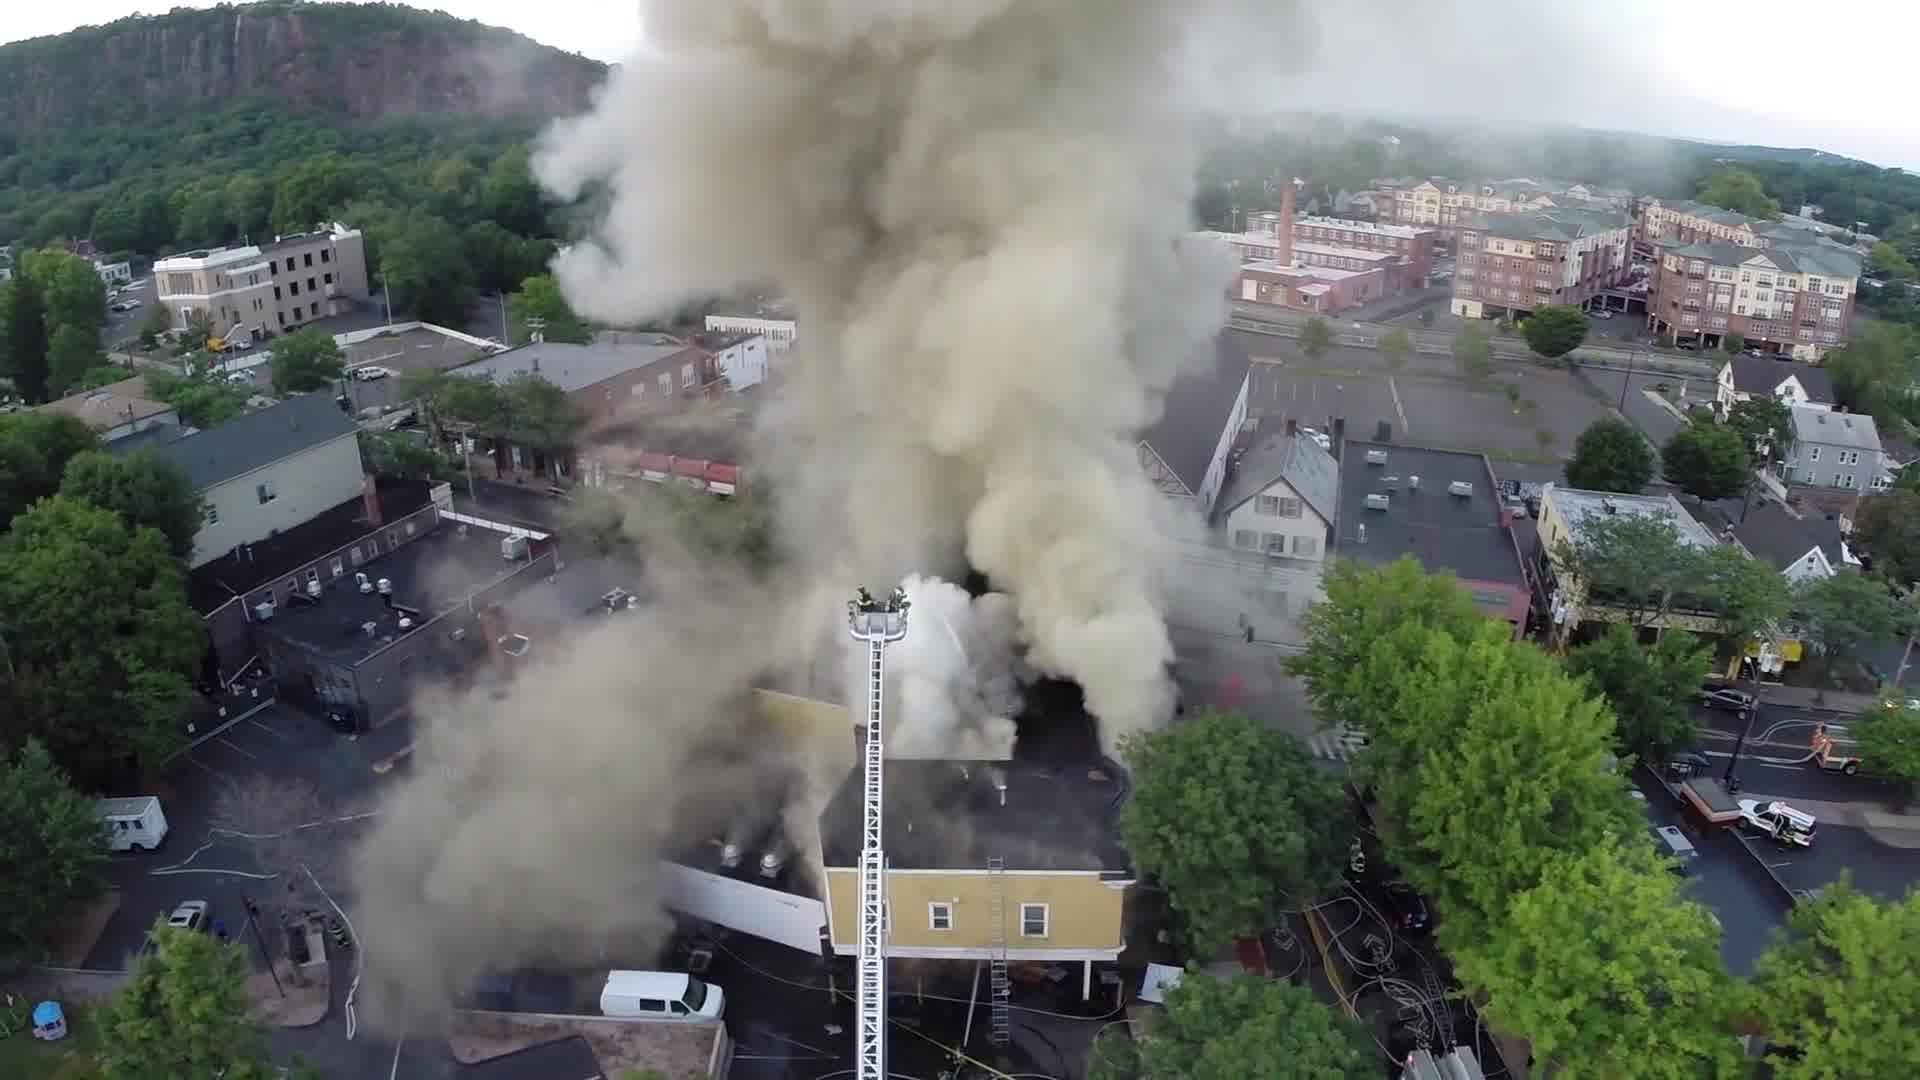smoke: (705, 0, 1164, 716), (452, 703, 678, 919)
